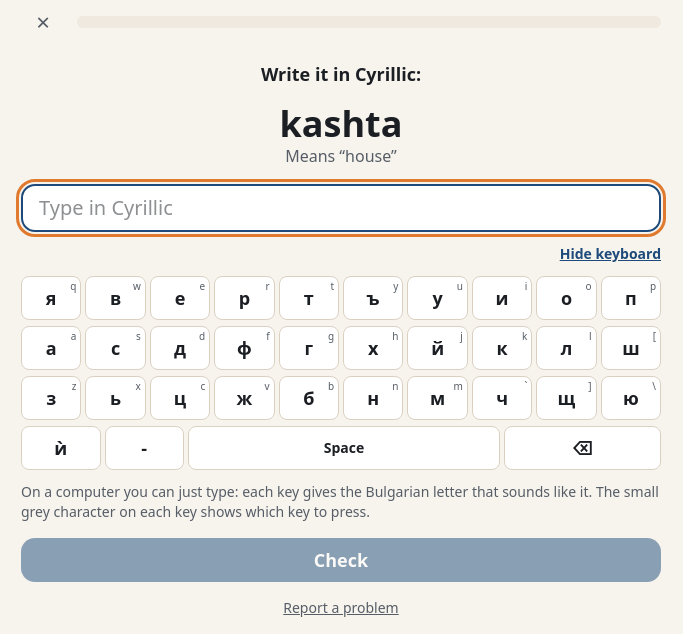
ExerciseSession › shows the right answer and the diff on a wrong typed answer
Type "кашта" into the field named "Your answer" at (341,208), box [21,184,661,232]
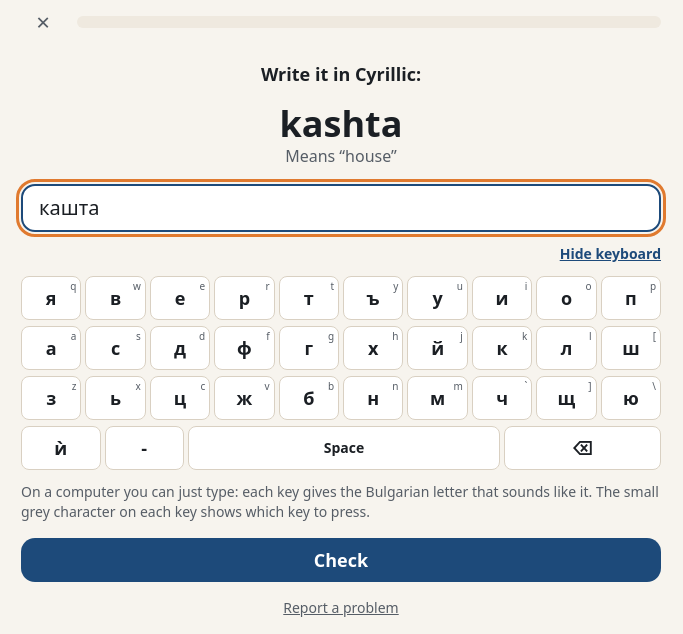
Click the button "Check" at (341,560), box [21,538,661,582]
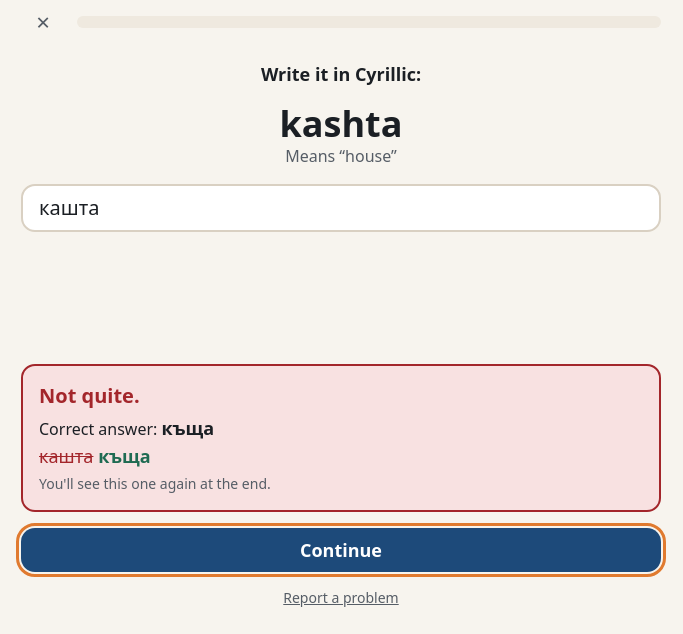
Check: the text "Correct answer:" is shown, box [39,418,157,440]
Check: the text "къща" next to "Correct answer:" is shown, box [162,416,214,440]
